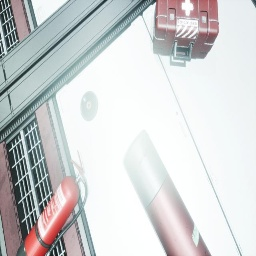FireExtinguisher ]: (16, 150, 88, 256)
FirstAidBox ,: (153, 0, 219, 62)
NitrogenTank ,: (124, 129, 212, 256)
